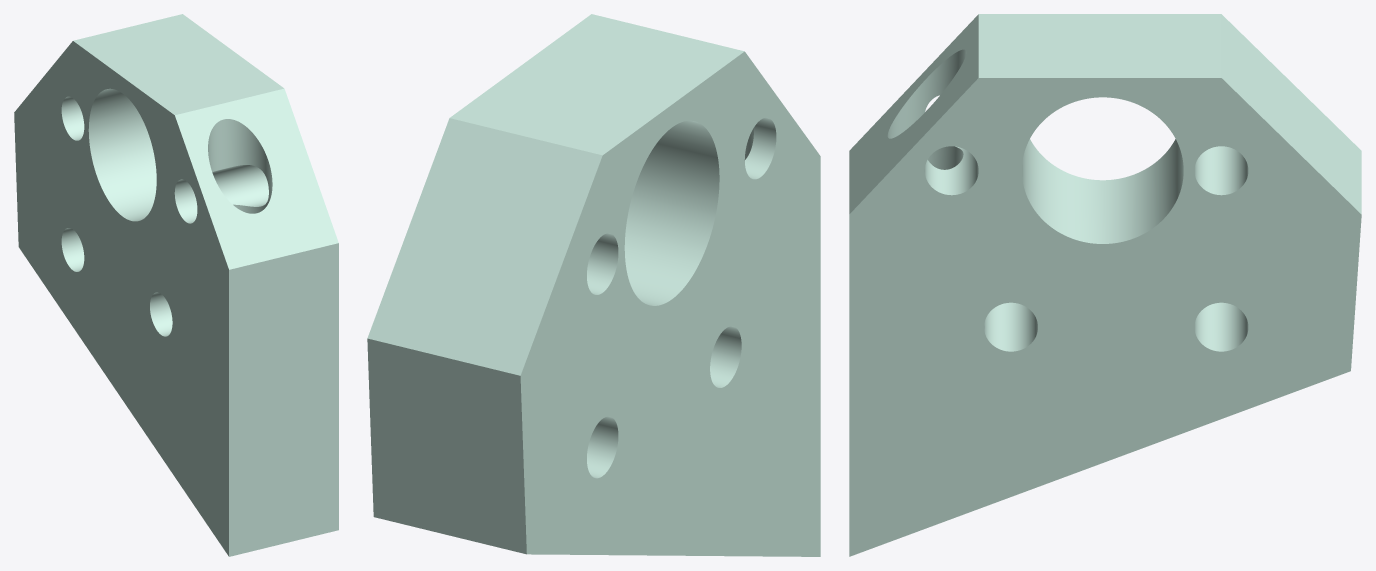
3 renders of one model, left to right at view 1: azimuth 30°, elevation 25°; view 2: azimuth 150°, elevation 25°; view 3: azimuth 270°, elevation 25°, orthographic. The views are drawn at different scales.
Parts seen in each view (by area): view 1: Renderer Node; view 2: Renderer Node; view 3: Renderer Node.
Boxes of the visible parts, <box> form: Renderer Node: <box>14,14,338,556</box>; Renderer Node: <box>367,14,820,556</box>; Renderer Node: <box>849,14,1361,556</box>.
Size of the model in its own units: 0.2188 by 0.7656 by 0.7422.
